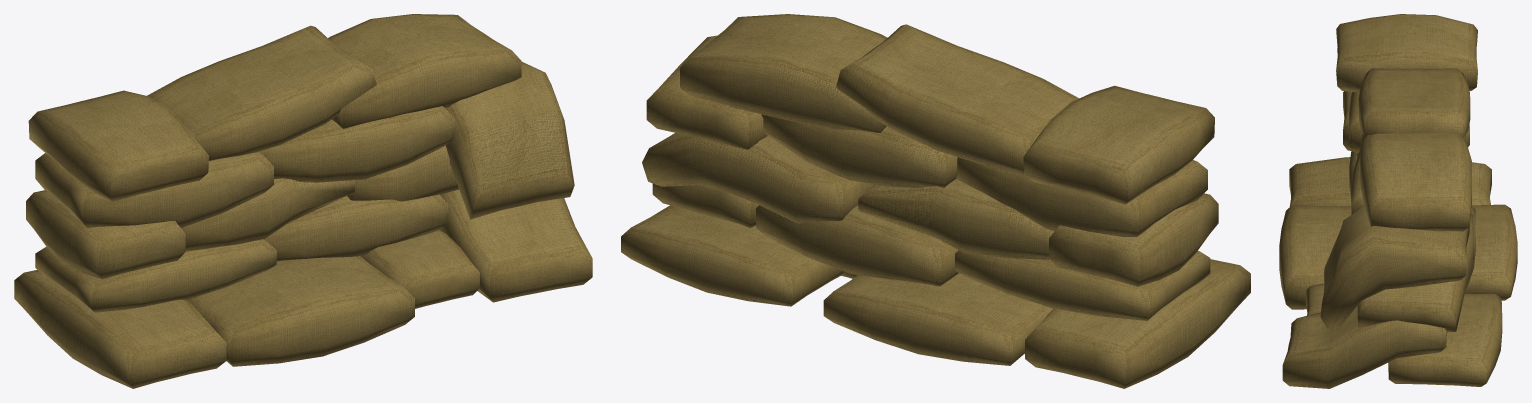
Rendered from SandBag02.FBX.
3 views of the same model, side by side, from view 1: azimuth 30°, elevation 25°; view 2: azimuth 150°, elevation 25°; view 3: azimuth 270°, elevation 25° (orthographic). The views are drawn at different scales.
Visible parts, largest first — view 1: Sandbag02; view 2: Sandbag02; view 3: Sandbag02.
Boxes of the visible parts, x1=… form: Sandbag02: x1=14, y1=14, x2=592, y2=388; Sandbag02: x1=621, y1=14, x2=1250, y2=388; Sandbag02: x1=1279, y1=14, x2=1517, y2=388.
Bounding box in the file's own units: 60.62 × 28.78 × 29.77.
1 material, 1 textured.
